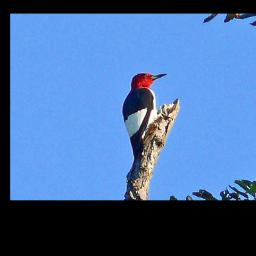Woodpecker: (112, 65, 174, 180)
